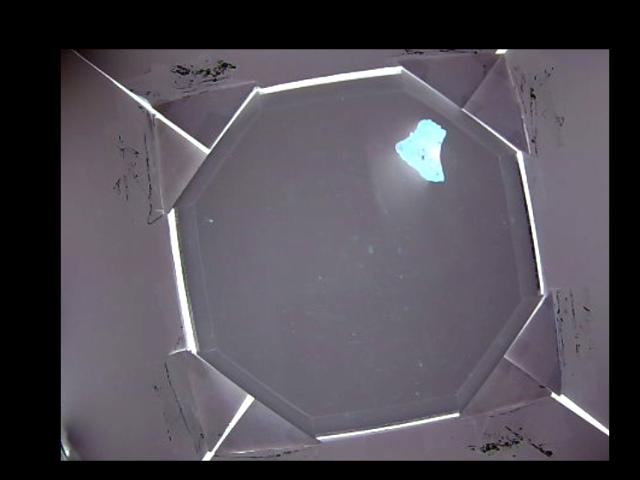Brisk: (394, 119, 445, 182)
